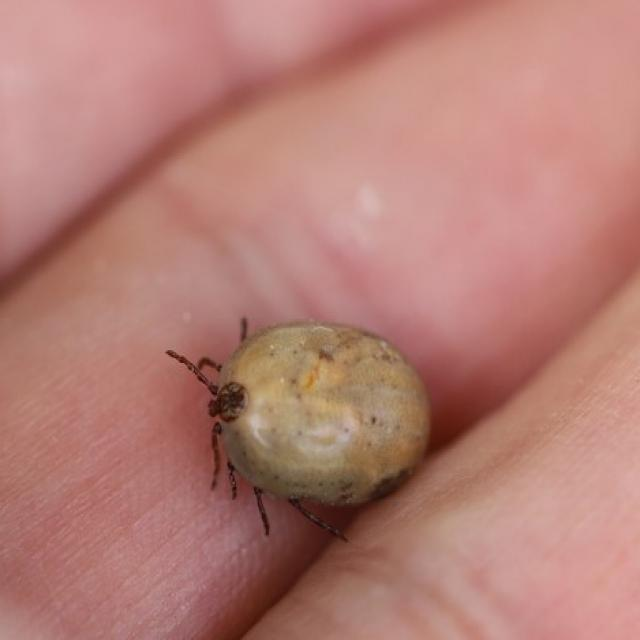Dermacentor Reticulatus-F-Fed: (164, 317, 431, 541)
